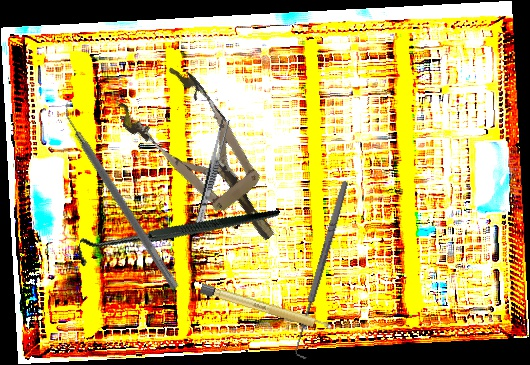Dressing Forceps: (192, 117, 231, 232)
Hook Surgical: (72, 154, 281, 320), (289, 178, 357, 361)
Scalpel Handle: (199, 283, 335, 334)
Spatula Surgical: (53, 99, 188, 291)
Speculum: (111, 57, 303, 265)
